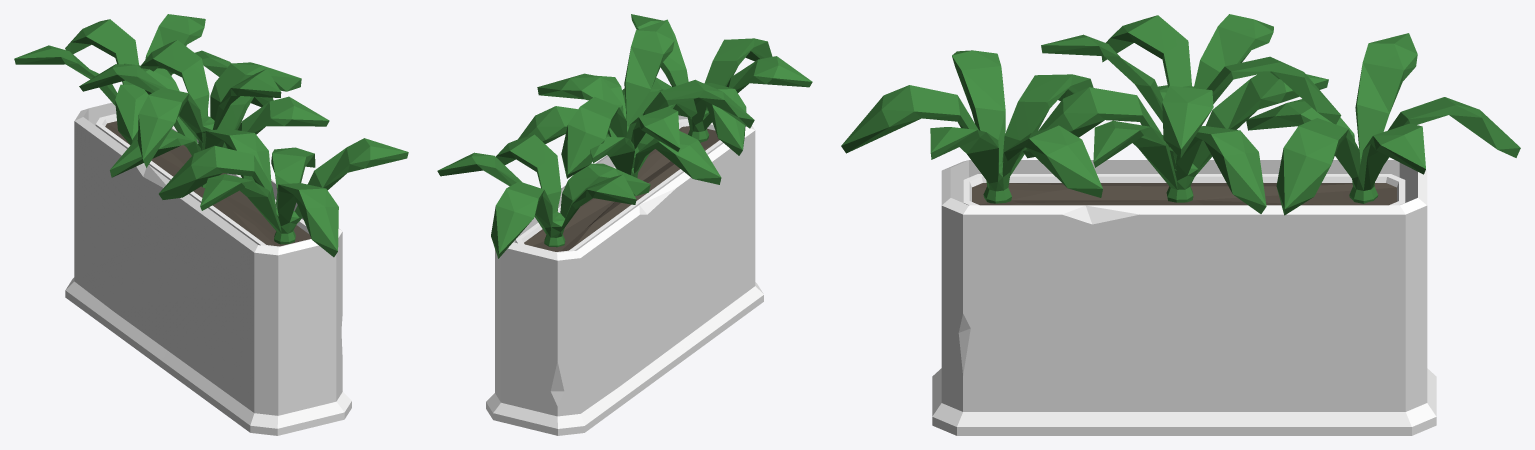
Rendered from Plants_02.fbx.
3 renders of one model, left to right at view 1: azimuth 30°, elevation 25°; view 2: azimuth 150°, elevation 25°; view 3: azimuth 270°, elevation 25°, orthographic. The views are drawn at different scales.
Visible parts, largest first — view 1: Plants_02; view 2: Plants_02; view 3: Plants_02.
Boxes of the visible parts, bbox=[...] form: Plants_02: bbox=[14, 14, 408, 435]; Plants_02: bbox=[437, 14, 812, 435]; Plants_02: bbox=[841, 14, 1520, 435].
Size of the model in its own units: 93.07 by 135 by 222.
